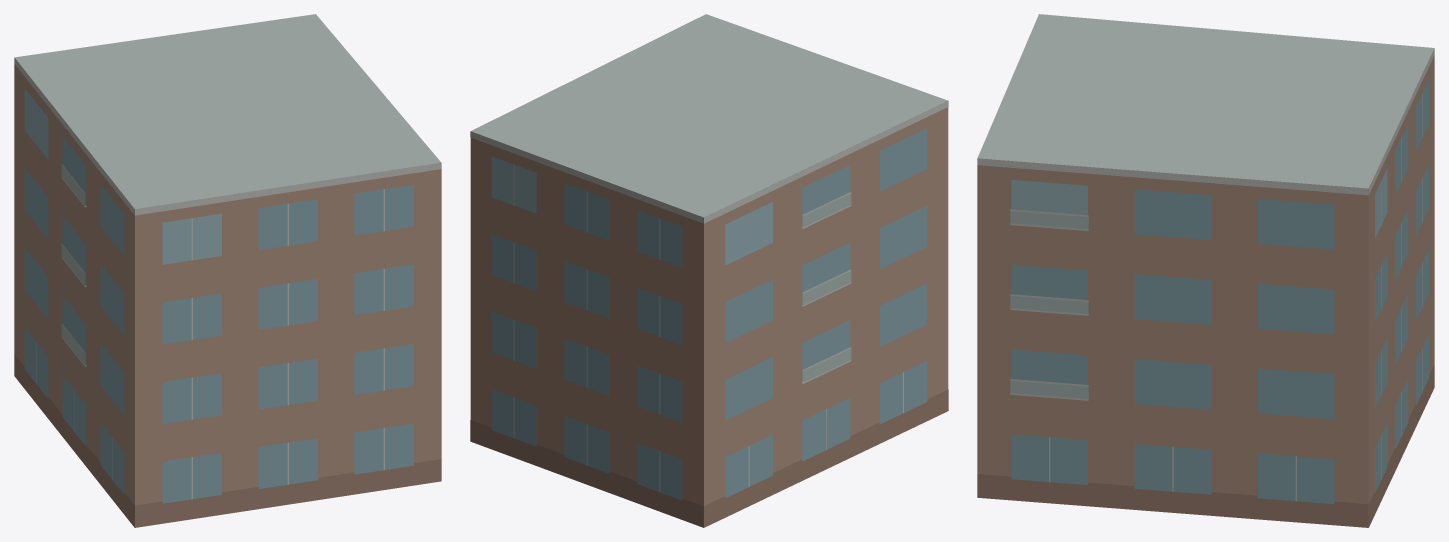
Rendered from survey-upis-32682929.glb.
The picture shows the model from 3 angles, left to right: view 1: azimuth 30°, elevation 25°; view 2: azimuth 150°, elevation 25°; view 3: azimuth 270°, elevation 25°; orthographic projection. The views are drawn at different scales.
Parts seen in each view (by area): view 1: survey-upis-32682929.tmp; view 2: survey-upis-32682929.tmp; view 3: survey-upis-32682929.tmp.
Boxes of the visible parts, x1,y1,x2,y2 form: survey-upis-32682929.tmp: [14, 14, 441, 527]; survey-upis-32682929.tmp: [470, 14, 948, 527]; survey-upis-32682929.tmp: [977, 14, 1434, 527].
Size of the model in its own units: 13.47 by 12.2 by 14.91.
